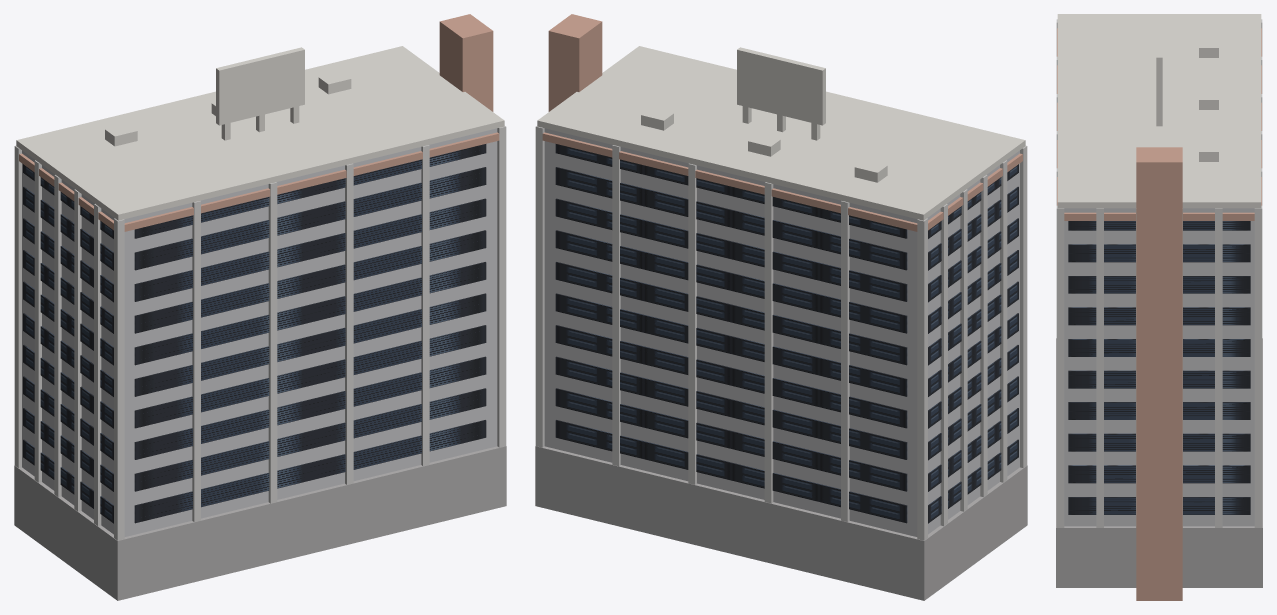
Rendered from skyline-tower-slab-billboard.glb.
3 renders of one model, left to right at view 1: azimuth 30°, elevation 25°; view 2: azimuth 150°, elevation 25°; view 3: azimuth 270°, elevation 25°, orthographic.
Visible parts, largest first — view 1: windows, body-1, parapet, podium, pilasters, roof-detail, core, crown-band; view 2: windows, body-1, parapet, podium, pilasters, roof-detail, core, crown-band; view 3: parapet, windows, core, body-1, pilasters, podium, roof-detail, crown-band.
Boxes of the visible parts, left/top/right/bottom form: windows: left=23, top=144, right=486, bottom=523; body-1: left=22, top=128, right=497, bottom=536; parapet: left=16, top=46, right=504, bottom=220; podium: left=14, top=446, right=506, bottom=600; pilasters: left=14, top=126, right=506, bottom=540; roof-detail: left=105, top=47, right=351, bottom=146; core: left=439, top=14, right=493, bottom=111; crown-band: left=19, top=132, right=499, bottom=231; windows: left=555, top=144, right=1018, bottom=523; body-1: left=544, top=128, right=1019, bottom=536; parapet: left=537, top=46, right=1025, bottom=220; podium: left=535, top=446, right=1027, bottom=600; pilasters: left=535, top=126, right=1027, bottom=540; roof-detail: left=641, top=47, right=887, bottom=182; core: left=548, top=14, right=602, bottom=111; crown-band: left=542, top=132, right=1022, bottom=231; parapet: left=1057, top=14, right=1261, bottom=208; windows: left=1068, top=221, right=1250, bottom=514; core: left=1136, top=147, right=1182, bottom=600; body-1: left=1064, top=208, right=1254, bottom=526; pilasters: left=1056, top=19, right=1262, bottom=527; podium: left=1056, top=338, right=1262, bottom=587; roof-detail: left=1156, top=16, right=1218, bottom=161; crown-band: left=1057, top=28, right=1261, bottom=220.
Size of the model in its own units: 43.6 by 45.75 by 18.8.
6 materials, 1 textured.
